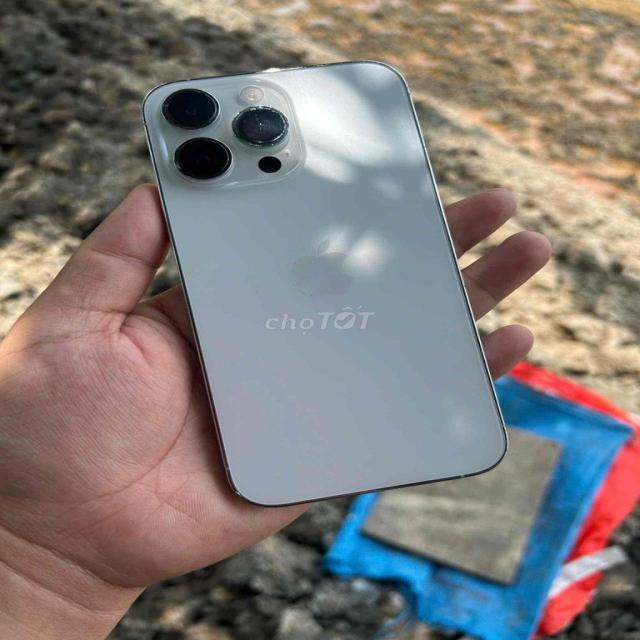gen_14: (139, 55, 514, 504)
